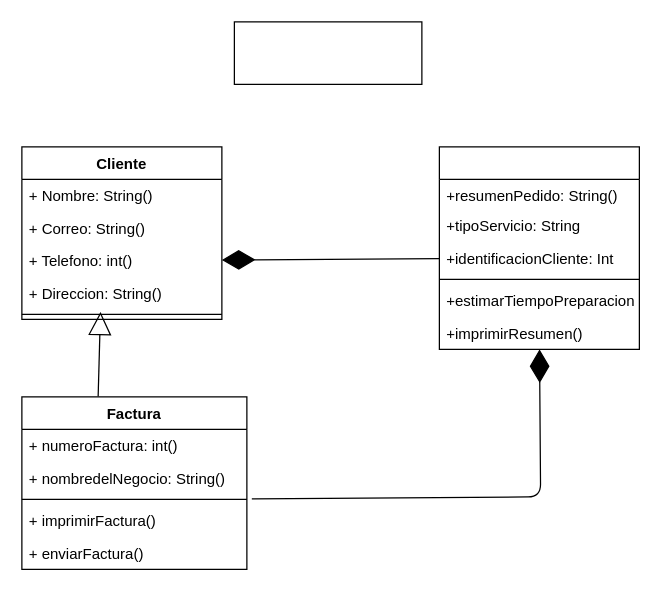
The diagram is 665 pixels wide and 595 high, and some of its shapes have lost their labels. The box of each missing label's shape, as (x1, y1, x2, y2) in pixels:
Facturación instantenea: (233, 21, 422, 84)
Orden pedido de comida: (438, 146, 639, 349)
